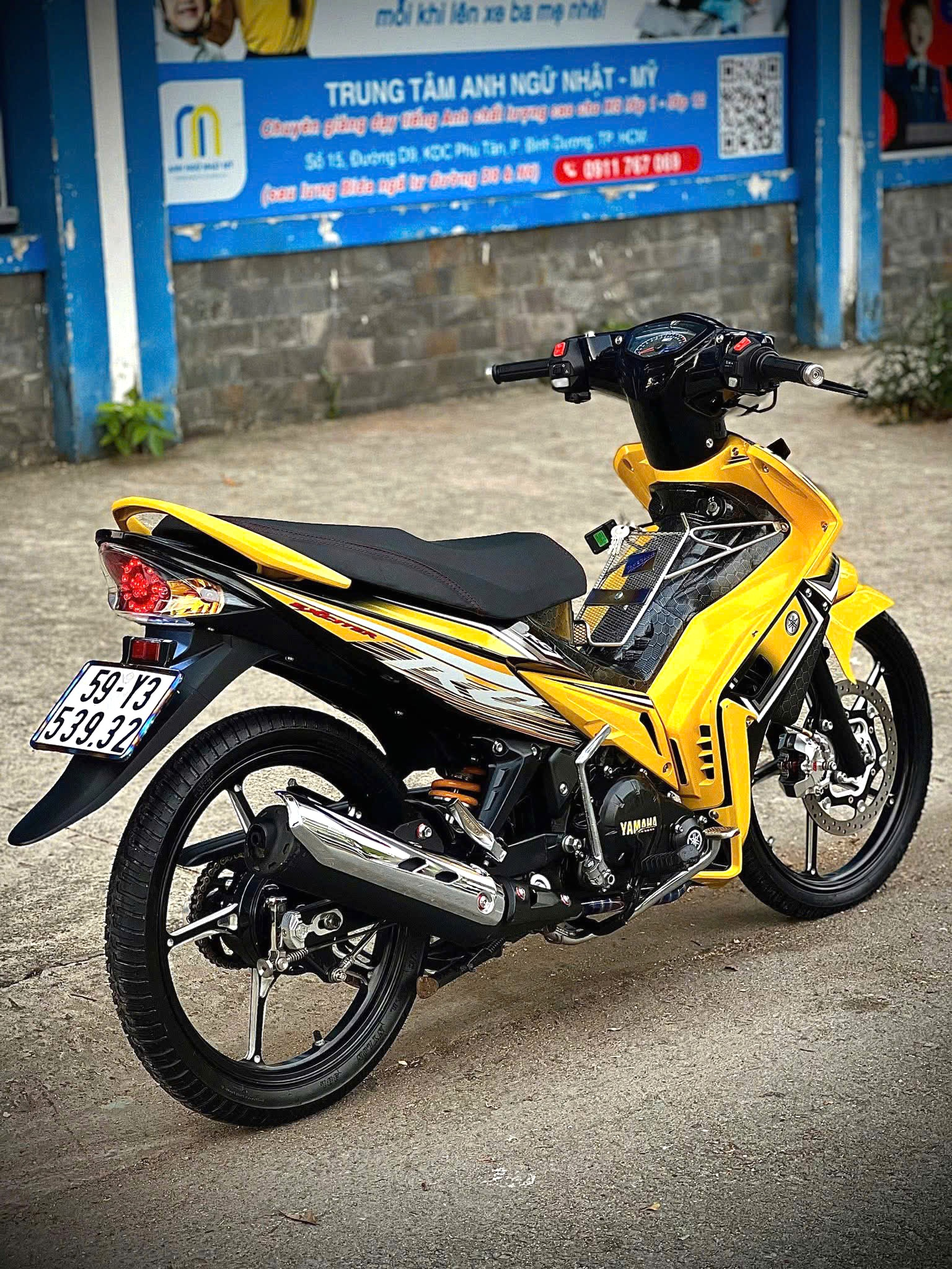Bien-so: (24, 659, 184, 751)
